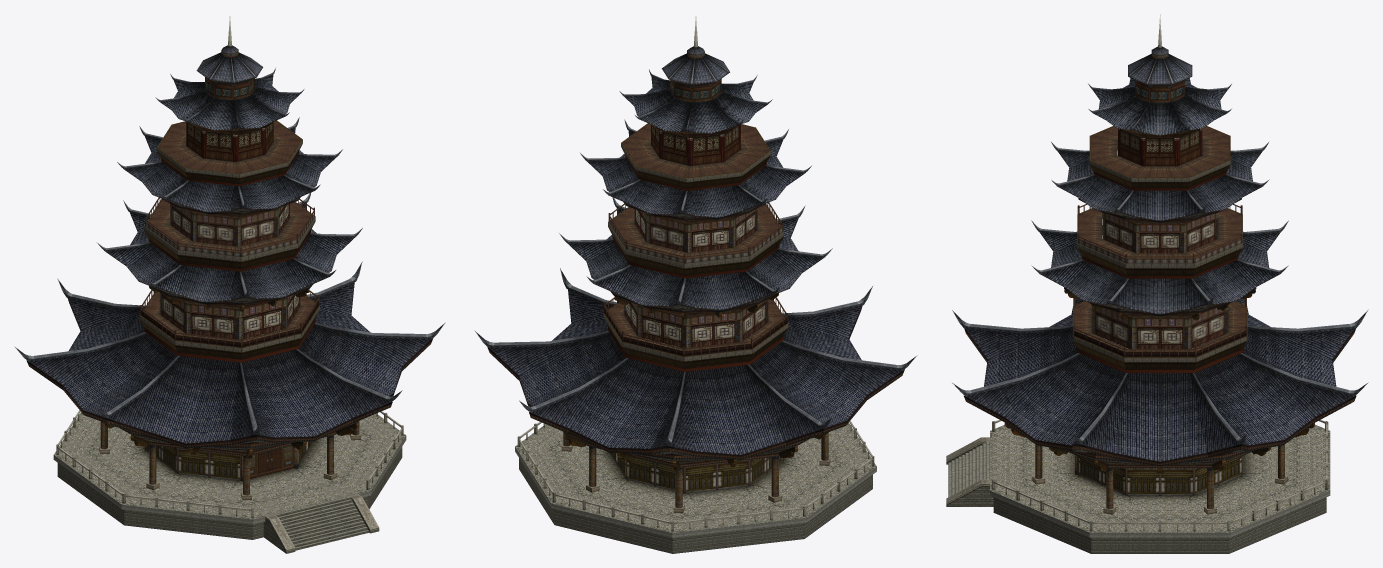
Rendered from milgyo_4fbuilding.glb.
The picture shows the model from 3 angles, left to right: view 1: azimuth 30°, elevation 25°; view 2: azimuth 150°, elevation 25°; view 3: azimuth 270°, elevation 25°; orthographic projection. The views are drawn at different scales.
Visible parts, largest first — view 1: milgyo_4Fbuilding; view 2: milgyo_4Fbuilding; view 3: milgyo_4Fbuilding.
Part boxes in pixels (box(x1,y1,x2,y2)): milgyo_4Fbuilding: box(14, 16, 445, 553); milgyo_4Fbuilding: box(474, 16, 917, 553); milgyo_4Fbuilding: box(946, 14, 1368, 553).
Bounding box in the file's own units: 41.91 × 52.06 × 42.44.
5 materials, 5 textured.
